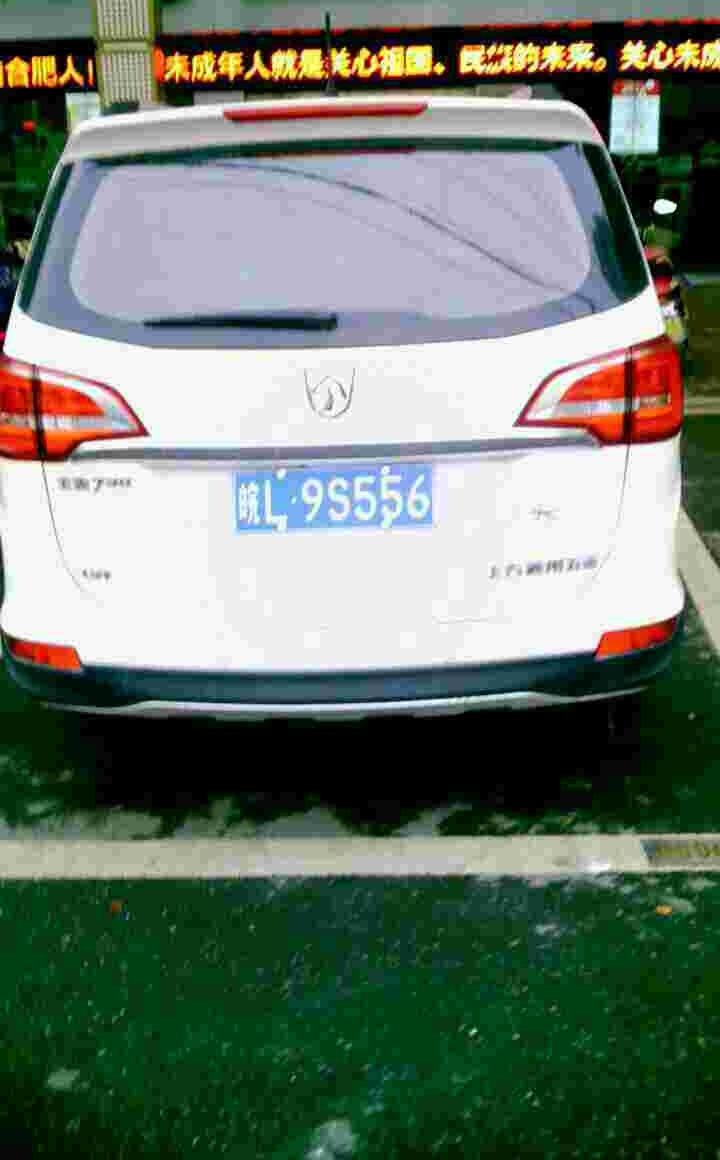license_plate: (228, 462, 434, 543)
